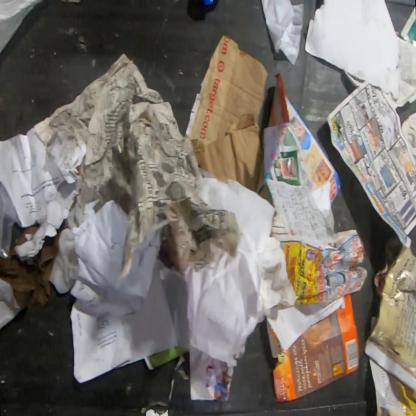cardboard: (184, 34, 273, 206), (266, 293, 360, 403), (362, 241, 415, 396)
soft_plastic: (0, 181, 17, 260)
